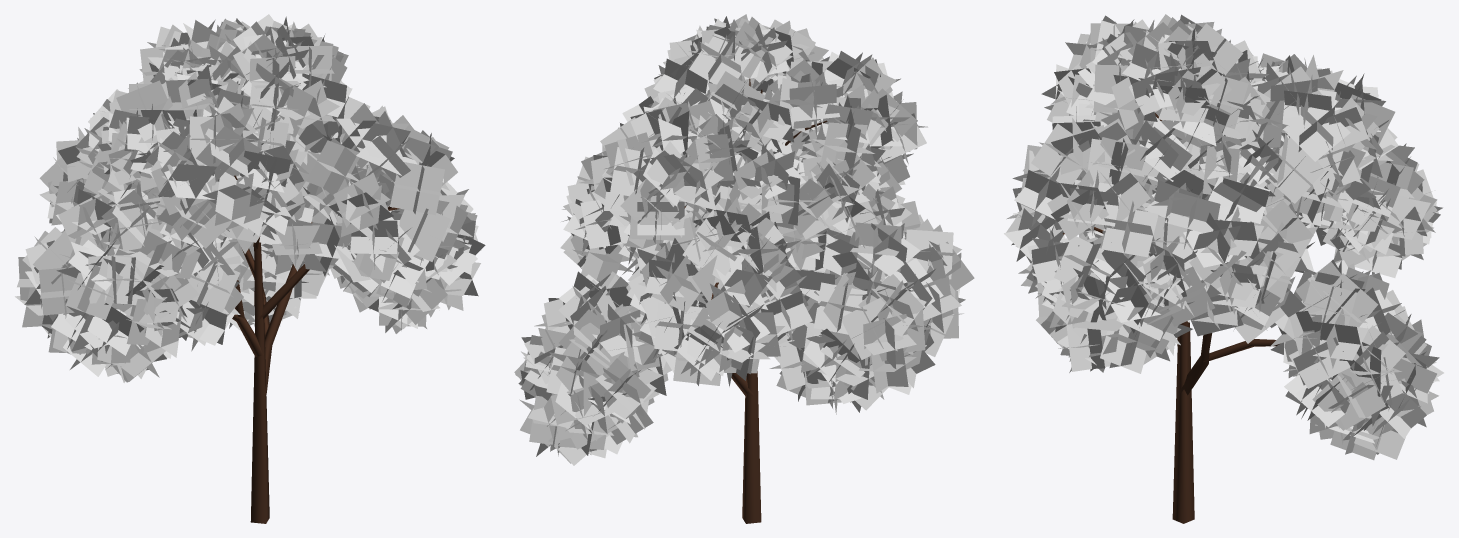
The model's file is Tree2Lod1.fbx.
The picture shows the model from 3 angles, left to right: view 1: azimuth 30°, elevation 25°; view 2: azimuth 150°, elevation 25°; view 3: azimuth 270°, elevation 25°; orthographic projection. The views are drawn at different scales.
Visible parts, largest first — view 1: Leaf.002, tree.001; view 2: Leaf.002, tree.001; view 3: Leaf.002, tree.001.
Part boxes in pixels (x1=…): Leaf.002: x1=15, y1=14, x2=485, y2=382; tree.001: x1=232, y1=175, x2=399, y2=523; Leaf.002: x1=514, y1=14, x2=974, y2=465; tree.001: x1=684, y1=78, x2=827, y2=523; Leaf.002: x1=1004, y1=14, x2=1443, y2=460; tree.001: x1=1062, y1=113, x2=1280, y2=523.
Bounding box in the file's own units: 940 × 1120 × 889.
